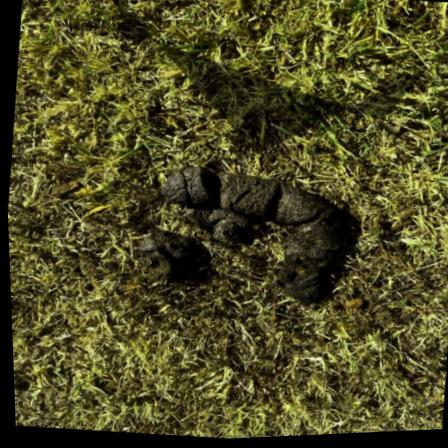dog-poop: (143, 162, 364, 314)
